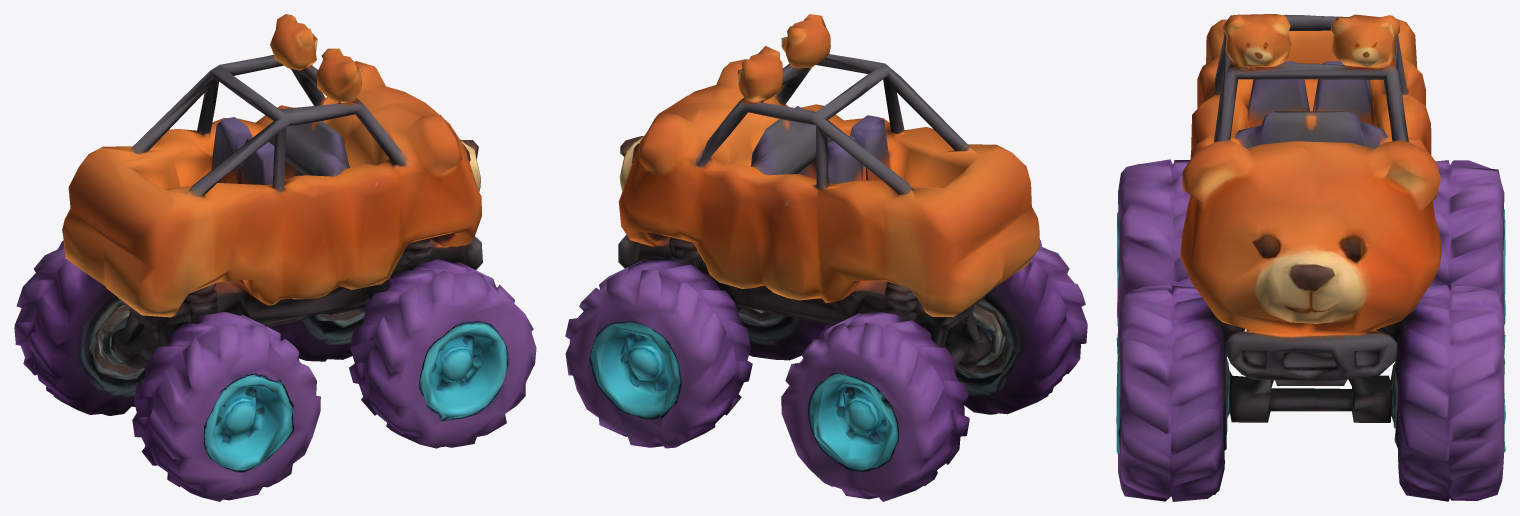
File: car_gummy.glb
3 renders of one model, left to right at view 1: azimuth 30°, elevation 25°; view 2: azimuth 150°, elevation 25°; view 3: azimuth 270°, elevation 25°, orthographic. The views are drawn at different scales.
Parts seen in each view (by area): view 1: tripo_node_f9f1eb2a-cc52-4f35-836d-71d40f846dde; view 2: tripo_node_f9f1eb2a-cc52-4f35-836d-71d40f846dde; view 3: tripo_node_f9f1eb2a-cc52-4f35-836d-71d40f846dde.
Part boxes in pixels (x1,y1,x2,y2): tripo_node_f9f1eb2a-cc52-4f35-836d-71d40f846dde: (14, 14, 536, 501); tripo_node_f9f1eb2a-cc52-4f35-836d-71d40f846dde: (565, 14, 1087, 501); tripo_node_f9f1eb2a-cc52-4f35-836d-71d40f846dde: (1116, 14, 1505, 501).
Bounding box in the file's own units: 0.9993 × 0.9096 × 0.7308.
Materials: 1 (1 with a texture image).
